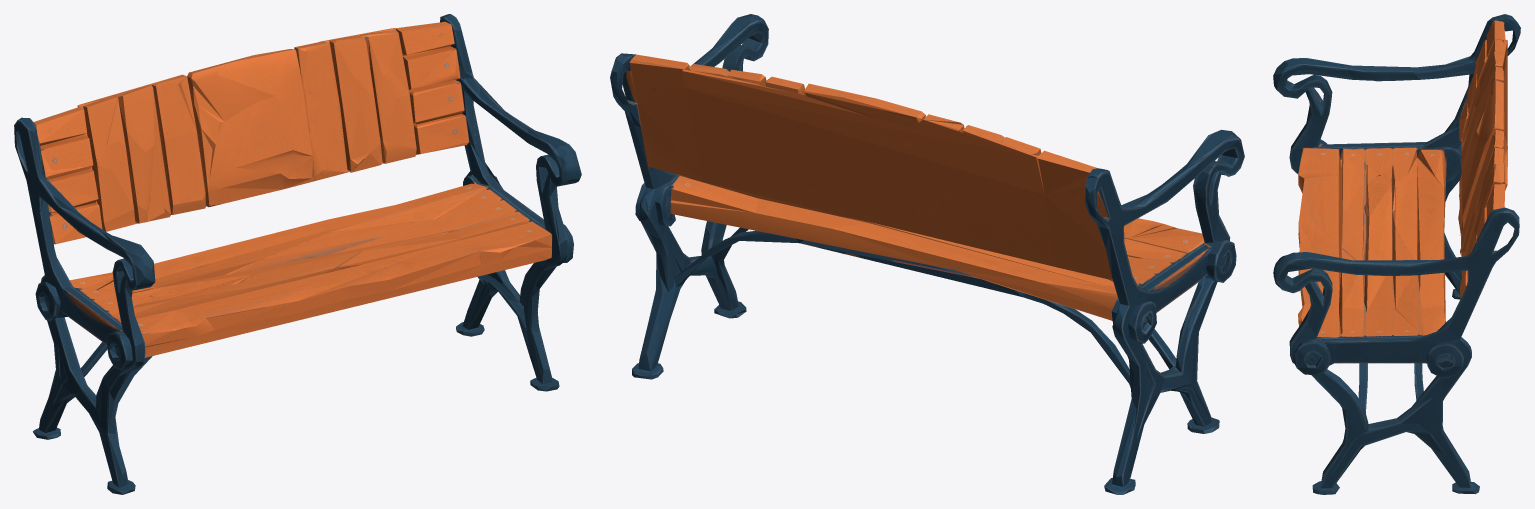
File: bench_park.glb
3 renders of one model, left to right at view 1: azimuth 30°, elevation 25°; view 2: azimuth 150°, elevation 25°; view 3: azimuth 270°, elevation 25°, orthographic. The views are drawn at different scales.
Bounding box in the file's own units: 1.9 × 1.26 × 0.966.
1 material, 1 textured.
